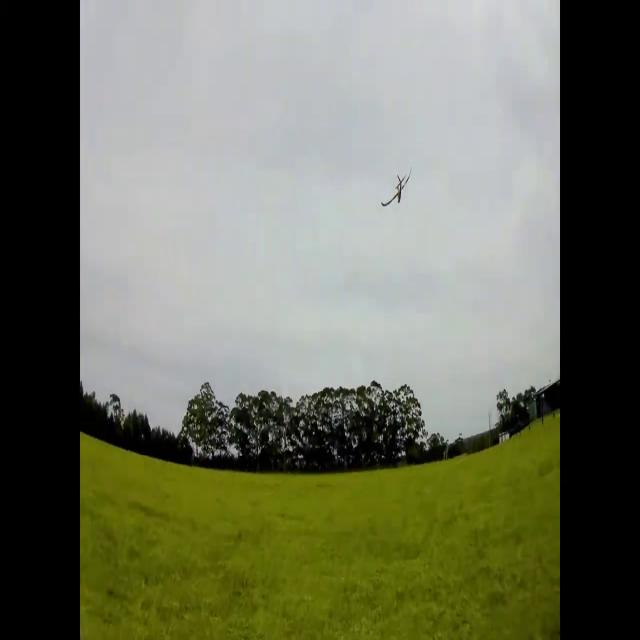iha: (381, 171, 412, 207)
